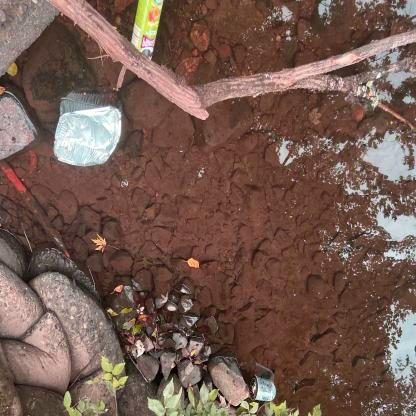Metal: (50, 100, 126, 171), (128, 0, 166, 69)
Plastic: (245, 370, 279, 404)
